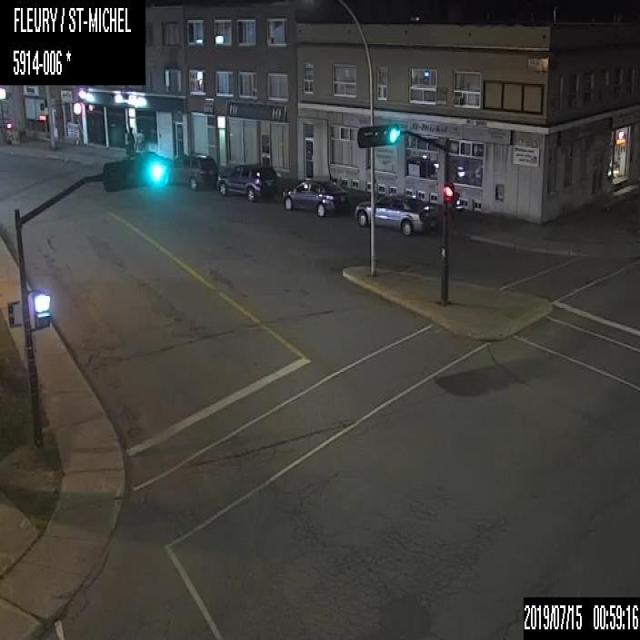pedestrian: (125, 123, 135, 157), (135, 128, 145, 150)
vehicle: (353, 191, 438, 236), (282, 178, 348, 218), (215, 162, 279, 201), (170, 150, 218, 190)
